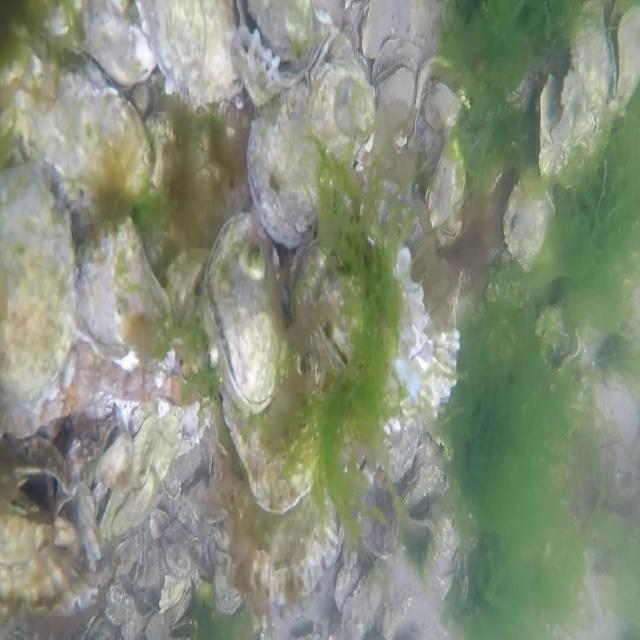Oyster-Closed: (247, 42, 374, 247), (0, 158, 77, 436), (15, 60, 152, 202), (201, 212, 283, 416), (76, 216, 174, 366), (231, 0, 336, 100), (74, 0, 158, 96), (502, 167, 554, 277), (423, 134, 466, 252), (401, 465, 435, 518)
Oyster-Indeterminate: (292, 236, 460, 436), (217, 322, 325, 514), (226, 426, 339, 603), (540, 0, 612, 173), (133, 0, 244, 109), (104, 410, 187, 525), (0, 545, 99, 618), (0, 504, 79, 570), (356, 466, 402, 562), (416, 44, 460, 140), (341, 566, 387, 640), (213, 528, 245, 616), (381, 426, 420, 480)
Oyster-Open: (0, 438, 75, 526), (372, 60, 417, 132), (608, 0, 640, 100), (329, 561, 360, 609), (407, 499, 437, 537)
